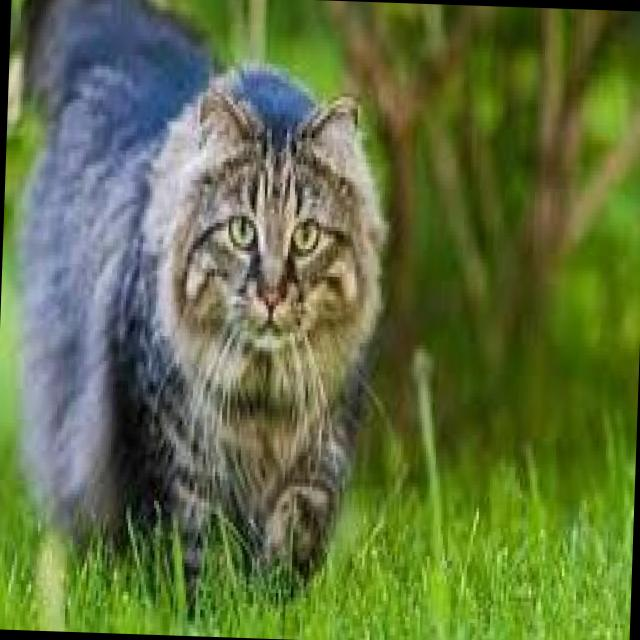Gato: (0, 0, 401, 631)
